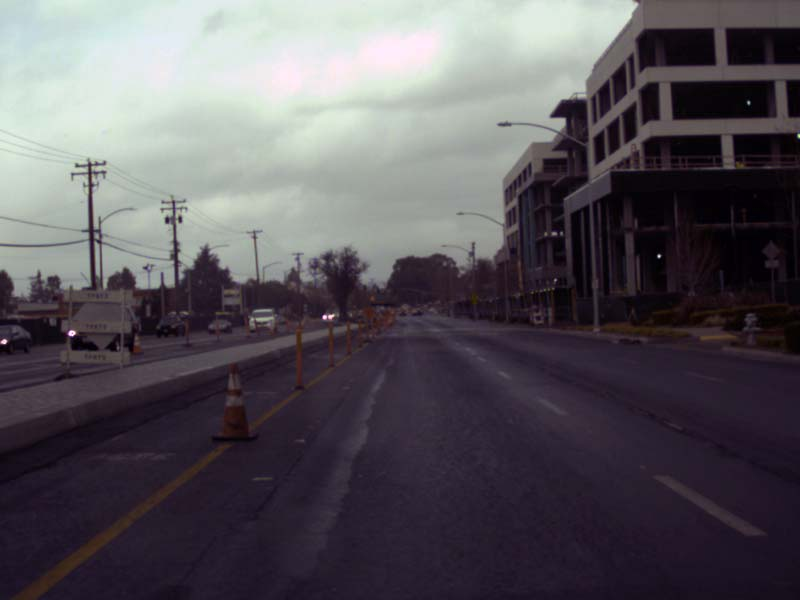Red: (394, 287, 396, 292), (376, 288, 378, 292), (440, 298, 442, 302), (408, 288, 409, 292)
